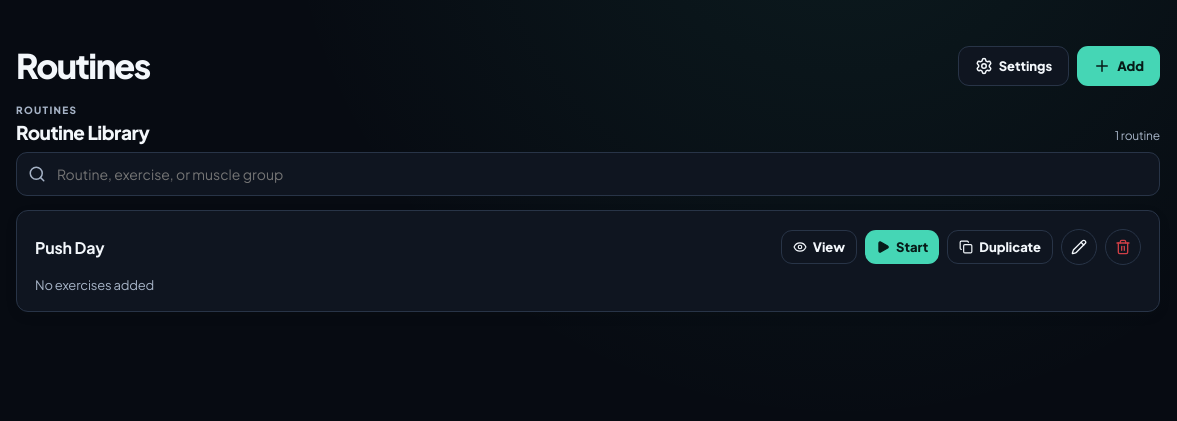
Routines page › shows a search empty state without offering duplicate starter routines
The image size is (1177, 421).
In the search field named "Search routines": (588, 174) [16,152,1160,196], type "cycling"
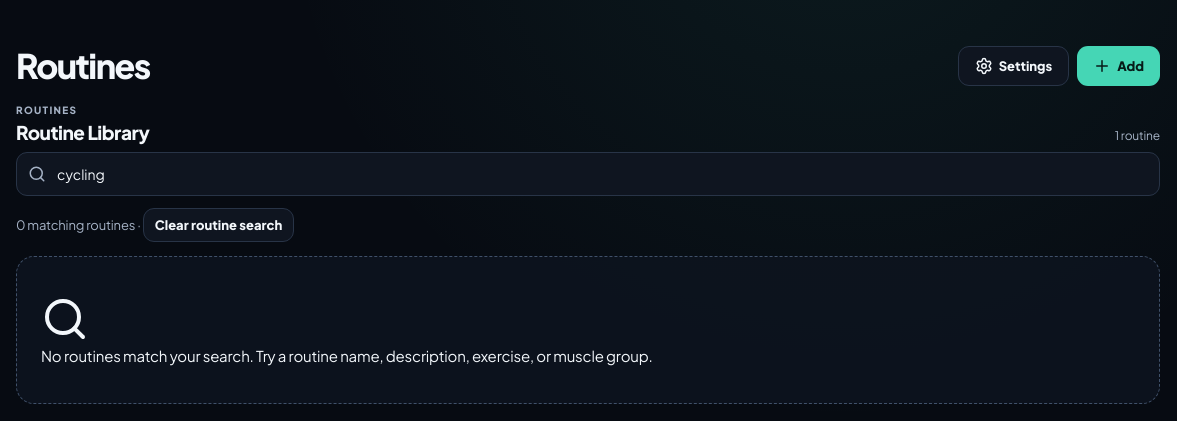
Expected: the text "No routines match your search" is shown, [41,346,653,365]
Expected: the message shows "0 matching routines", [16,208,294,242]
Click the button "Clear routine search": (219, 225) [143,208,294,242]
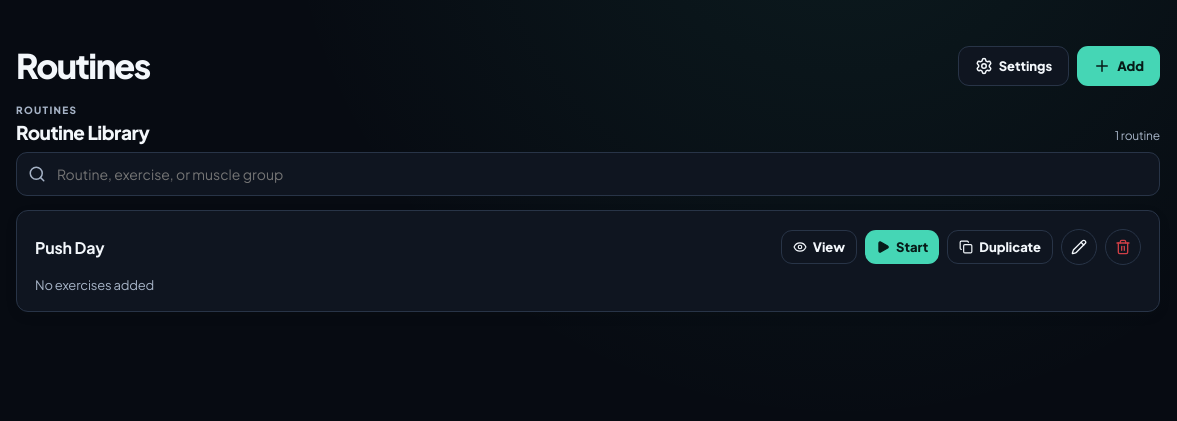
Expected: the heading "Push Day" is shown, [35,236,104,258]
